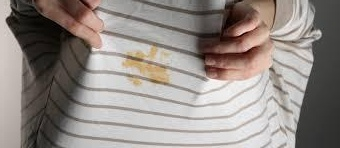mustard: (131, 65, 175, 81), (128, 45, 157, 60), (131, 77, 144, 88), (160, 50, 173, 61), (121, 59, 132, 72)
